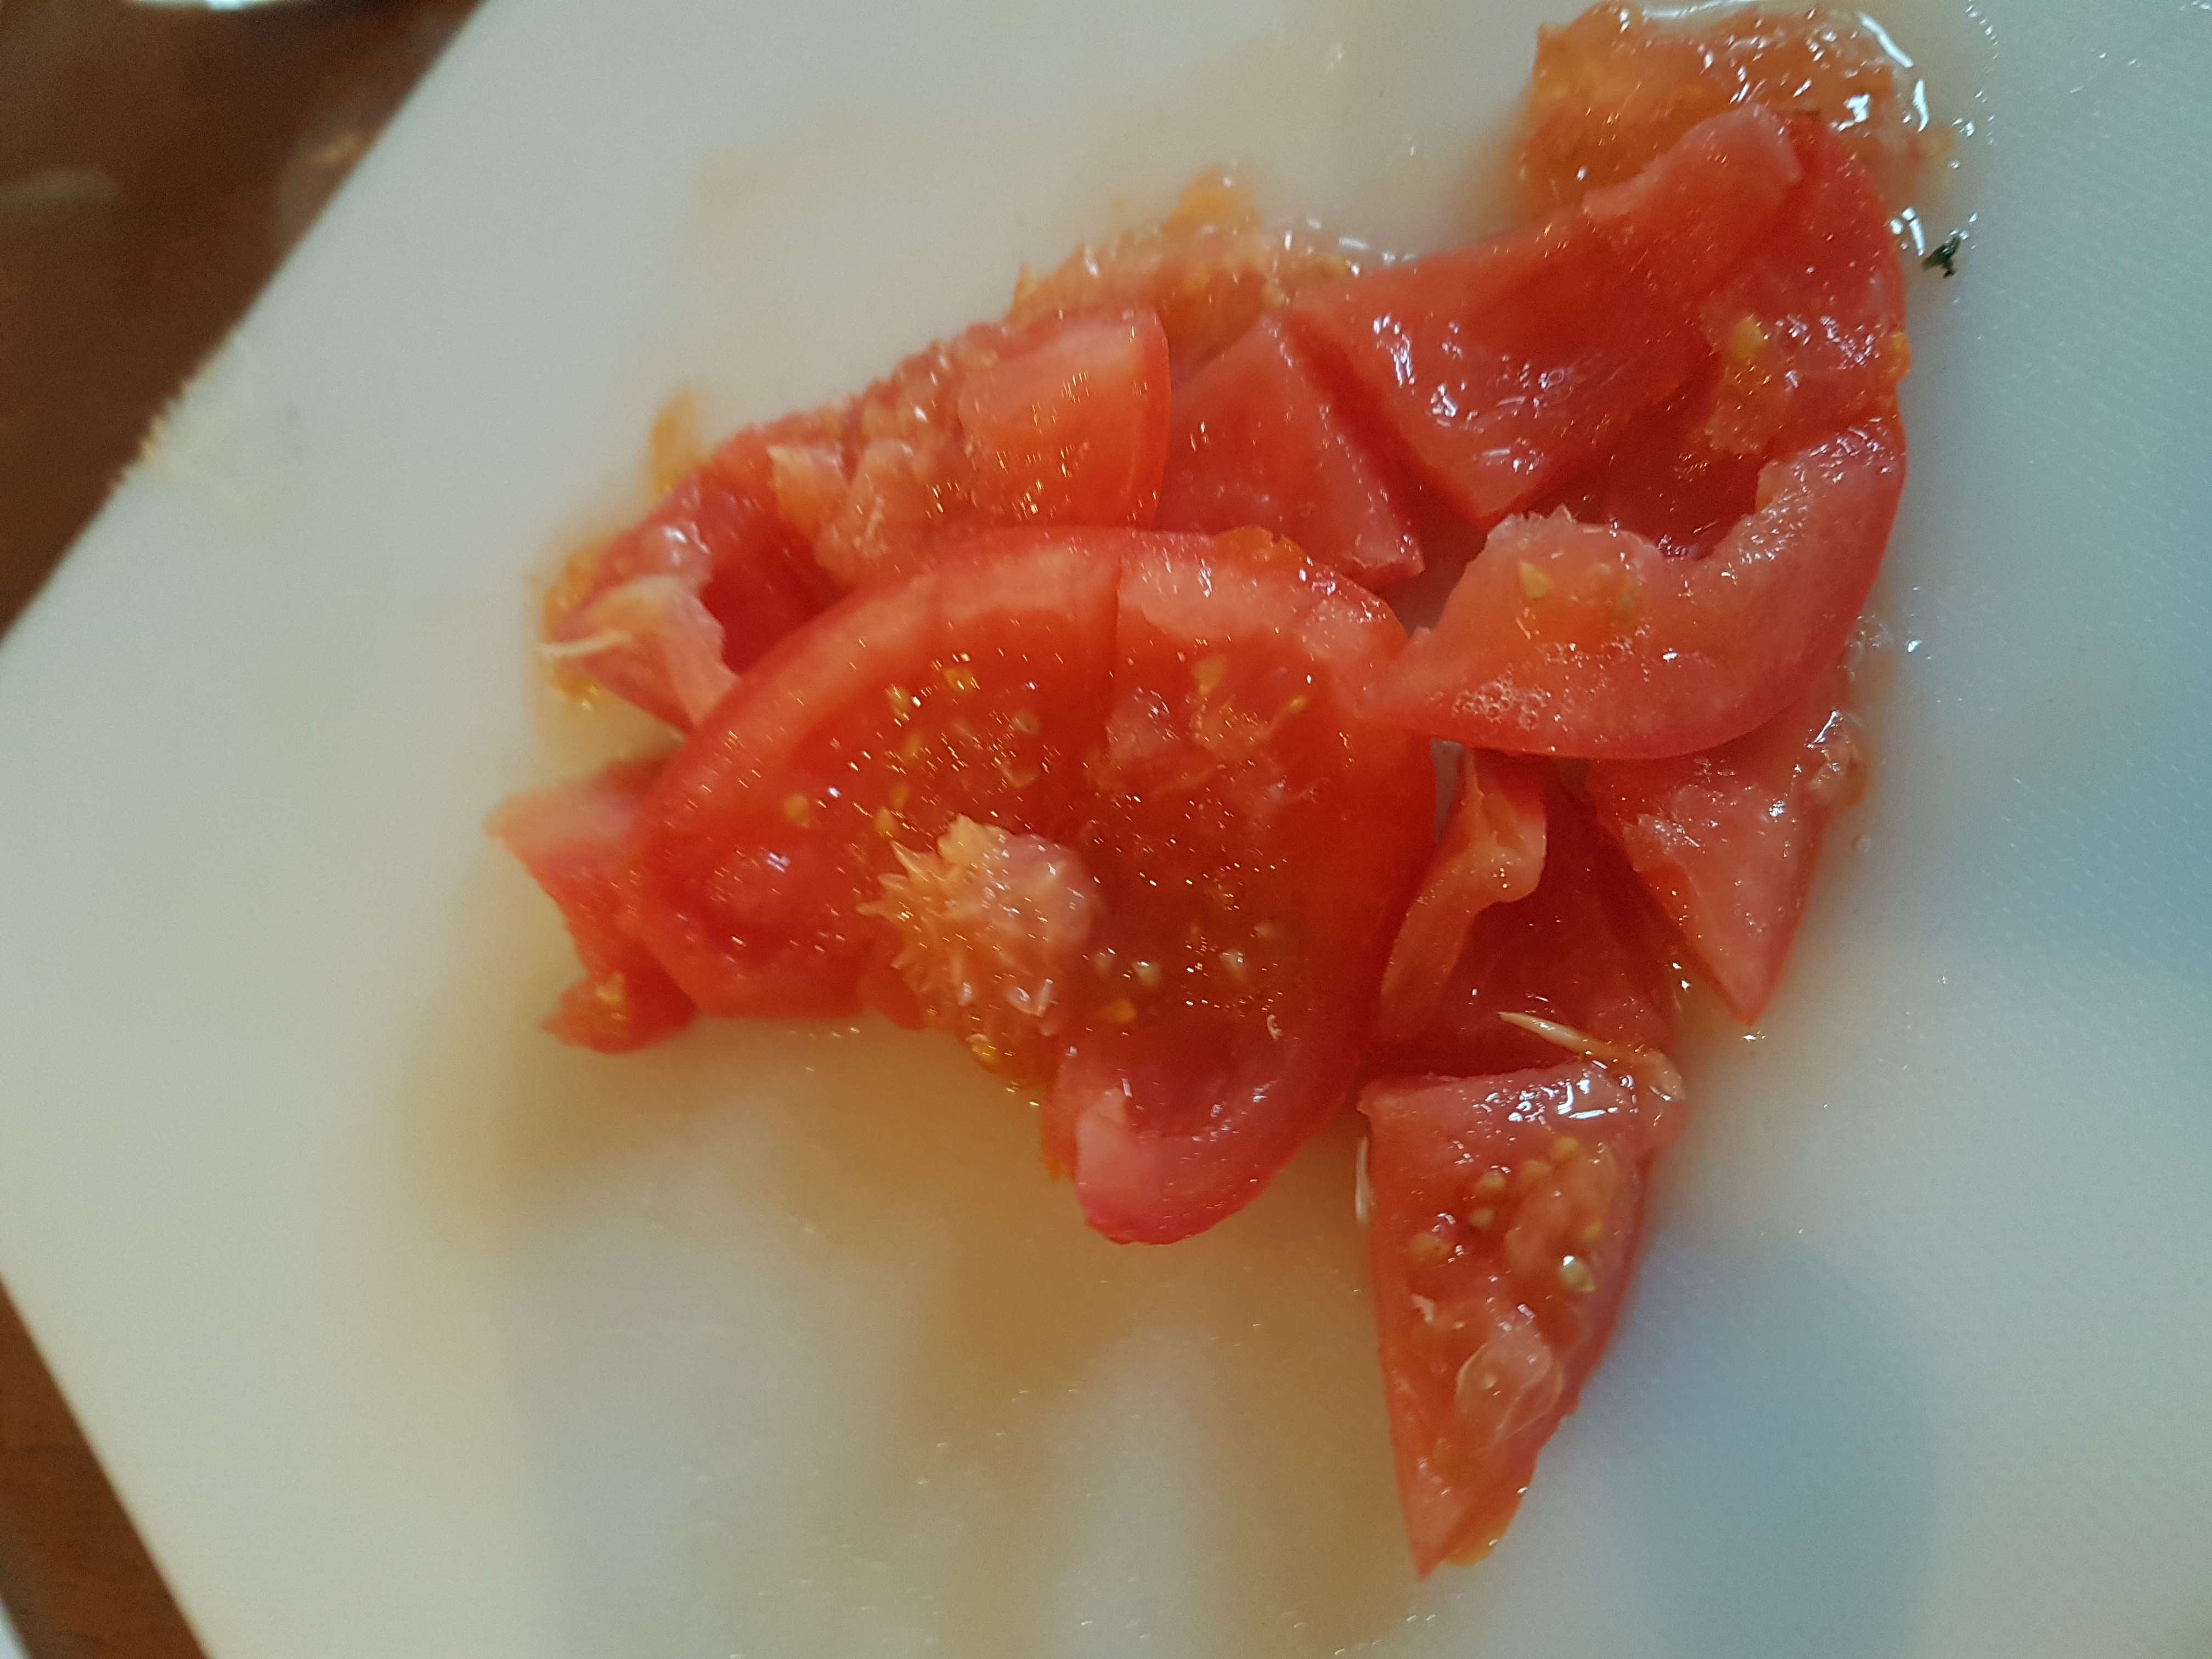Tomato: (314, 64, 2040, 1631)
